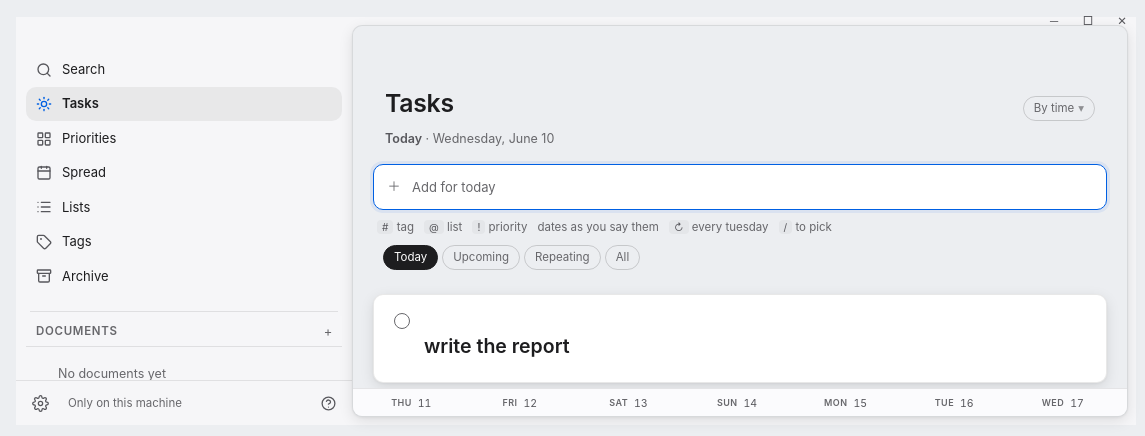
Scenario: the archive reads in layers › groups through one pill and keeps the row to the layers, the axis and the hidden
The image size is (1145, 436).
Expected: the heading "write the report" is shown, [424,334,570,358]
Click the button "Archive" at (85, 276), box [26,260,342,293]
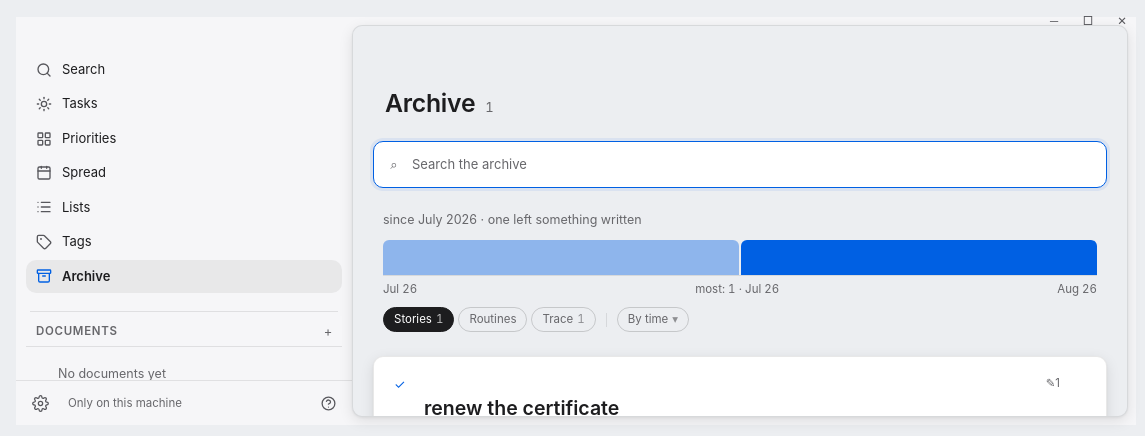
Expected: the button "Grouped by" does not show "Grouped by"
Now the heading "renew the certificate" is shown, box [424,396,619,416]
Click the button with aria-label "Grouped by" at (653, 320), box [617,307,689,332]
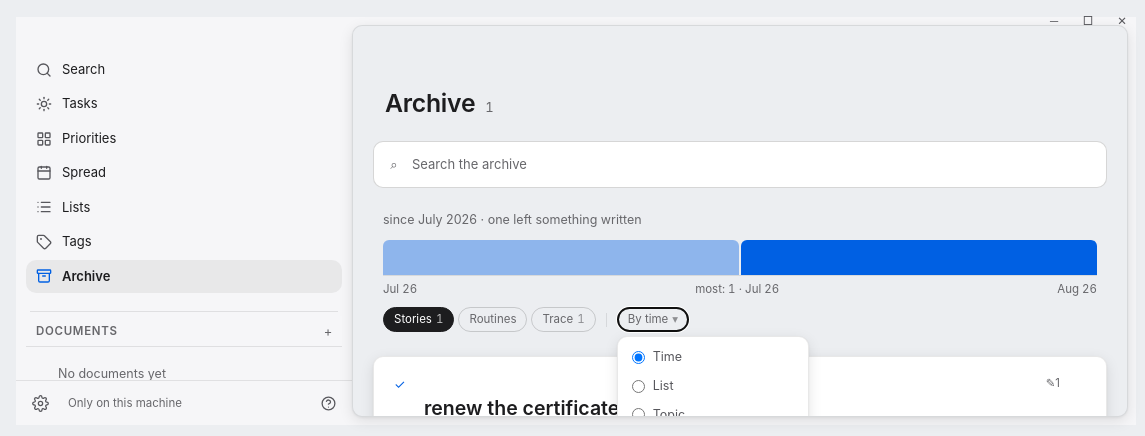
Click the radio button labelled "List" at (638, 386), box [632,380,645,393]
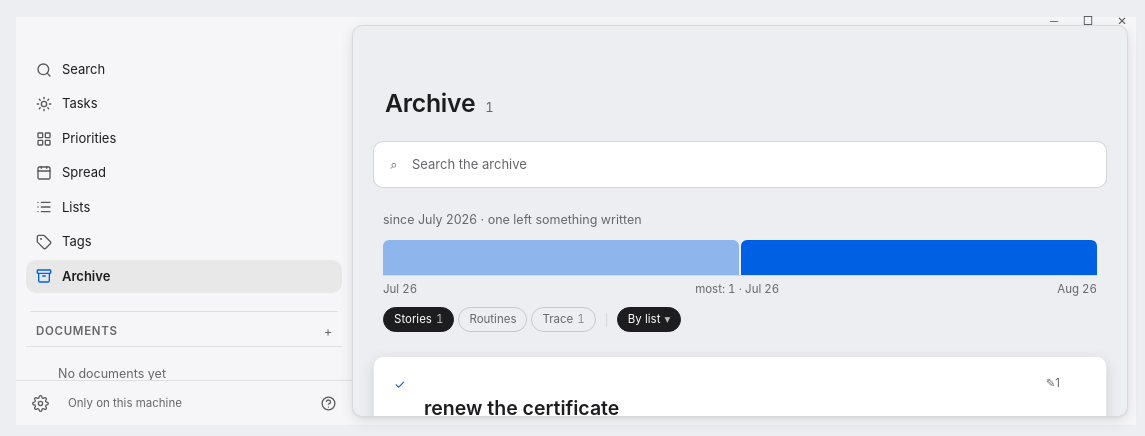
Now the button with aria-label "Grouped by" shows "By list", box [617,307,681,332]
